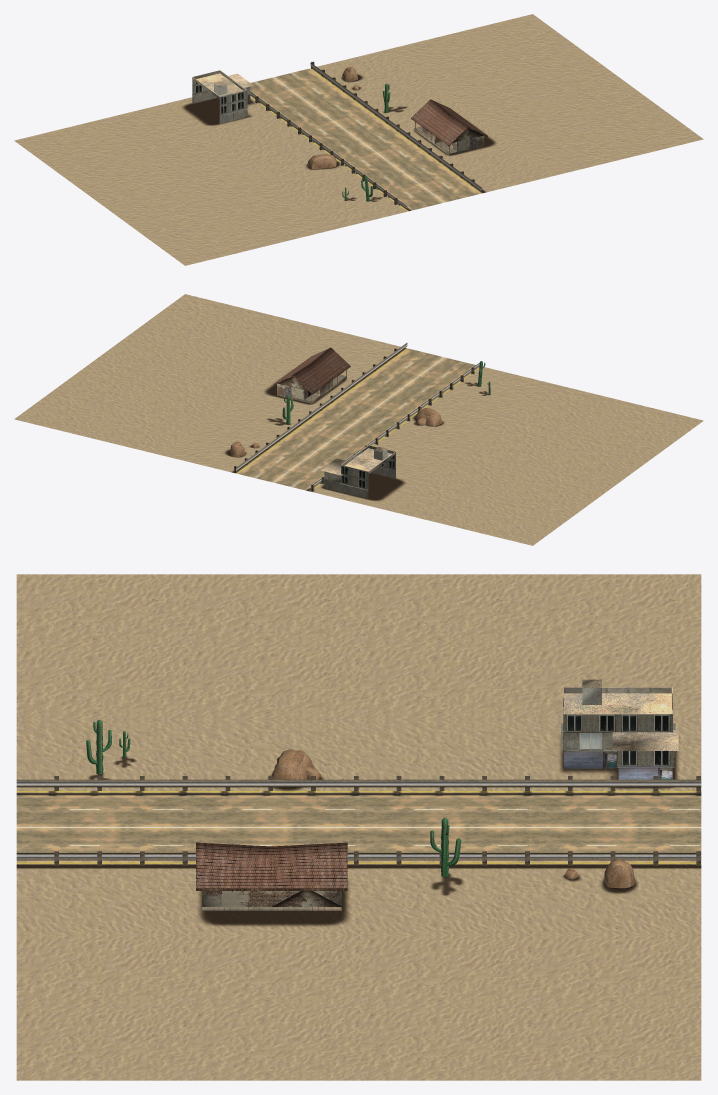
3 renders of one model, top to bottom at view 1: azimuth 30°, elevation 25°; view 2: azimuth 150°, elevation 25°; view 3: azimuth 270°, elevation 25°, orthographic. The views are drawn at different scales.
Parts seen in each view (by area): view 1: scene3, road010, b1, b2, rock006; view 2: scene3, road010, b1, b2, rock006; view 3: scene3, road010, b2, b1, rock006, Box005.
Boxes of the visible parts, <box> form: scene3: <box>14,14,703,265</box>; road010: <box>250,61,481,211</box>; b1: <box>411,99,487,155</box>; b2: <box>192,70,253,123</box>; rock006: <box>307,67,359,169</box>; scene3: <box>14,294,703,545</box>; road010: <box>234,343,479,491</box>; b1: <box>273,347,350,403</box>; b2: <box>321,445,396,498</box>; rock006: <box>230,408,442,457</box>; scene3: <box>16,574,701,1080</box>; road010: <box>16,776,701,865</box>; b2: <box>561,679,678,779</box>; b1: <box>196,842,347,910</box>; rock006: <box>272,749,635,888</box>; Box005: <box>86,720,461,876</box>.
Bounding box in the file's own units: 140 × 8.9 × 80.
